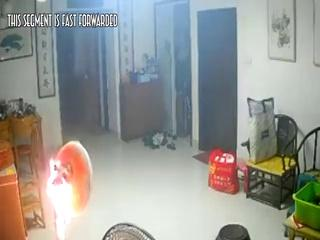Fire: (50, 167, 83, 239)
